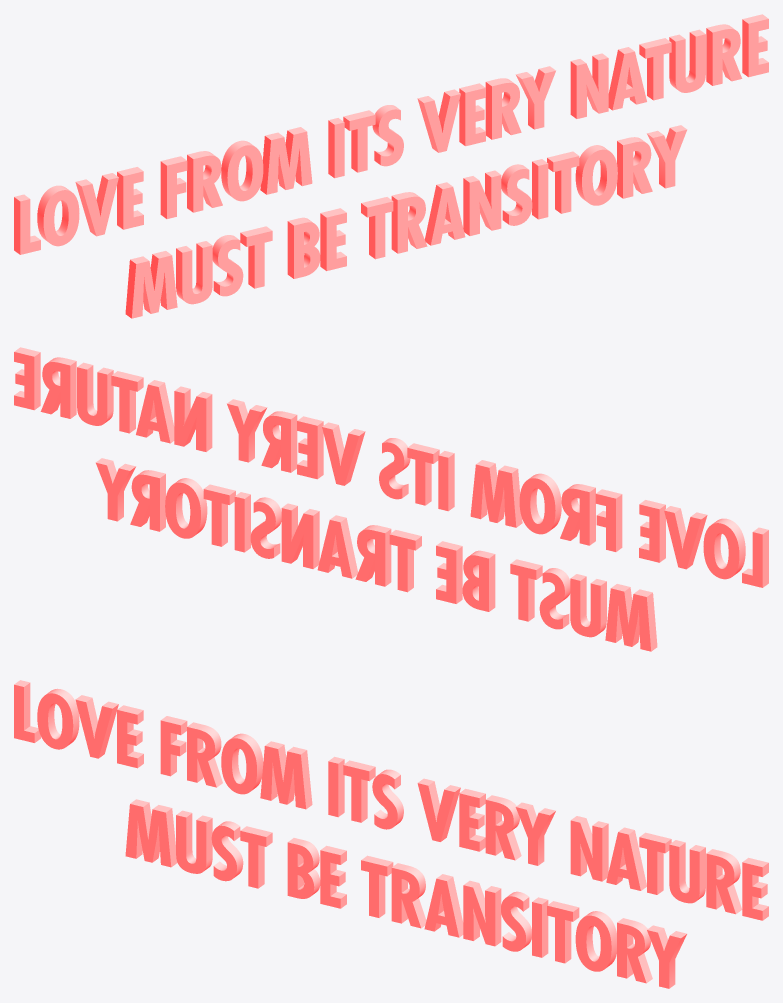
The model's file is love.glb.
The picture shows the model from 3 angles, top to bottom: view 1: azimuth 30°, elevation 25°; view 2: azimuth 150°, elevation 25°; view 3: azimuth 330°, elevation 25°; orthographic projection.
Parts seen in each view (by area): view 1: typeMesh1; view 2: typeMesh1; view 3: typeMesh1.
Boxes of the visible parts, bbox=[...] form: typeMesh1: bbox=[14, 14, 768, 318]; typeMesh1: bbox=[14, 347, 768, 651]; typeMesh1: bbox=[14, 680, 768, 988].
Bounding box in the file's own units: 25.83 × 4.82 × 0.3746.
